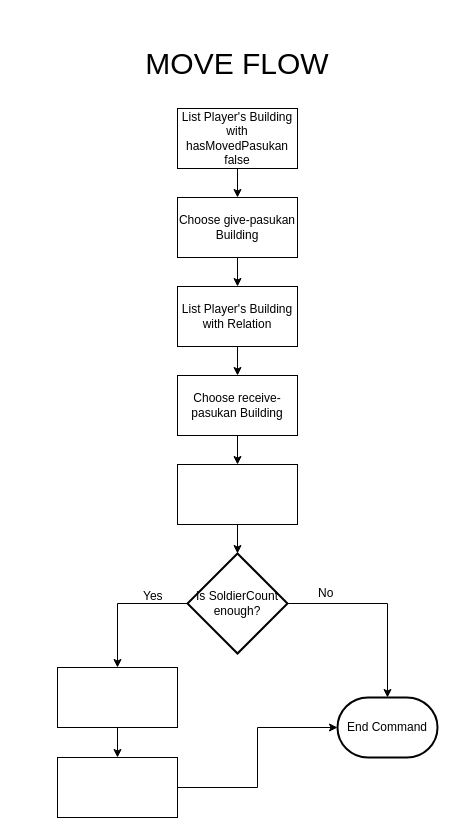
Image size: 474x835. Some labels were removed from this diagram. The shapes that lost their labels are listed below. From the top down, each one's centre as x and y in pixels, then its label:
At point (237, 494): "Input SoldierCount to be Moved".
At point (117, 697): "Decrease give-pasukan Building".
At point (117, 787): "Increase receive-pasukan Building".
